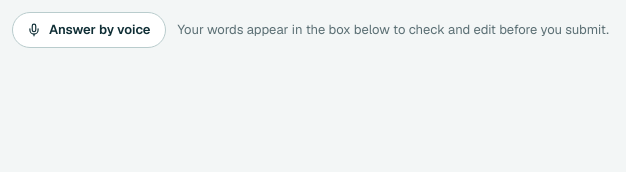
Test: VoiceRecorder › records, uploads the clip for its question, and hands back the draft
Later steps or results of the test are not shown.
Click the button "Answer by voice": (89, 30) [12,12,166,48]
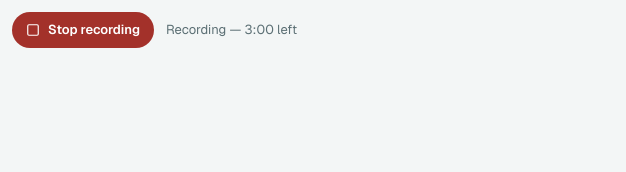
Check: the text "Recording — 3:00 left" is shown, box [166,20,297,40]
